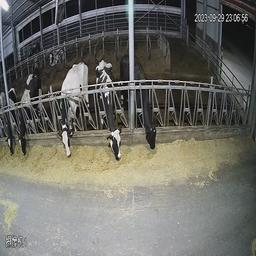cow: (120, 51, 160, 160), (56, 52, 89, 170), (92, 56, 125, 162), (14, 67, 46, 158), (1, 84, 18, 163), (44, 44, 63, 71)
